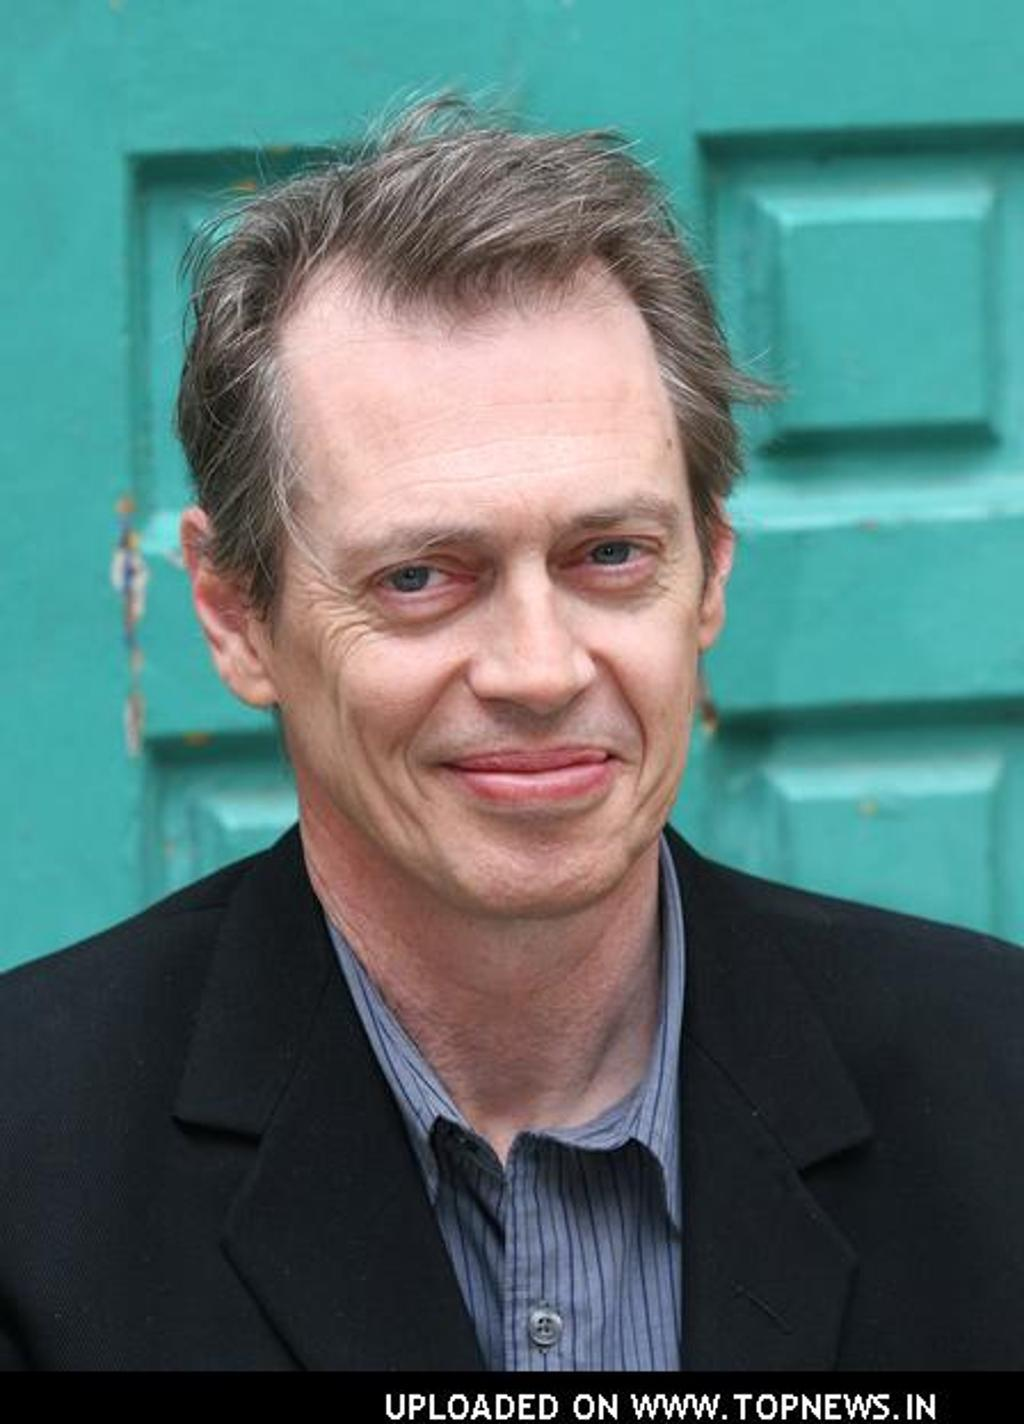face: (302, 271, 705, 903)
